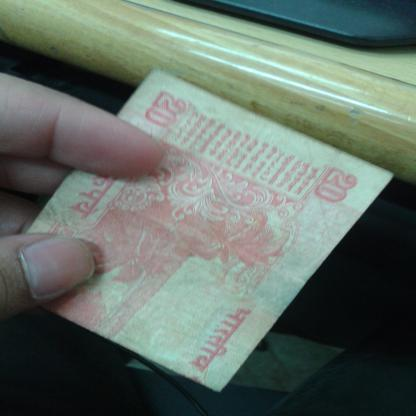Old20Back: (16, 77, 358, 371)
